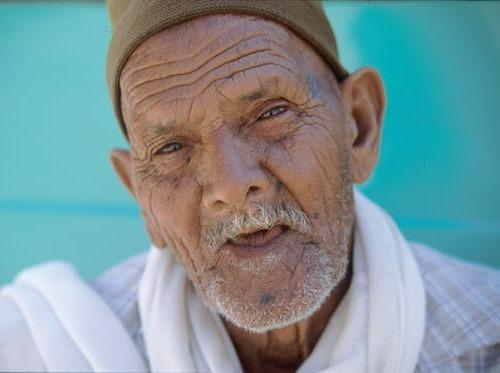Wrinkles: (127, 33, 276, 98), (134, 49, 273, 108), (123, 28, 232, 90), (188, 63, 293, 120), (180, 239, 204, 291), (134, 97, 170, 121), (306, 123, 337, 142), (311, 150, 326, 174), (150, 193, 160, 229), (219, 92, 236, 104), (163, 97, 190, 104), (322, 193, 328, 218), (304, 105, 324, 109)
